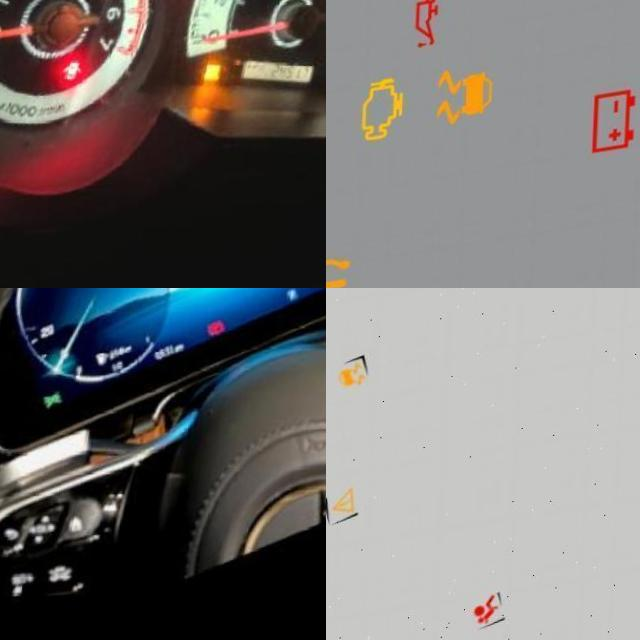Low fuel level: (88, 353, 104, 371)
